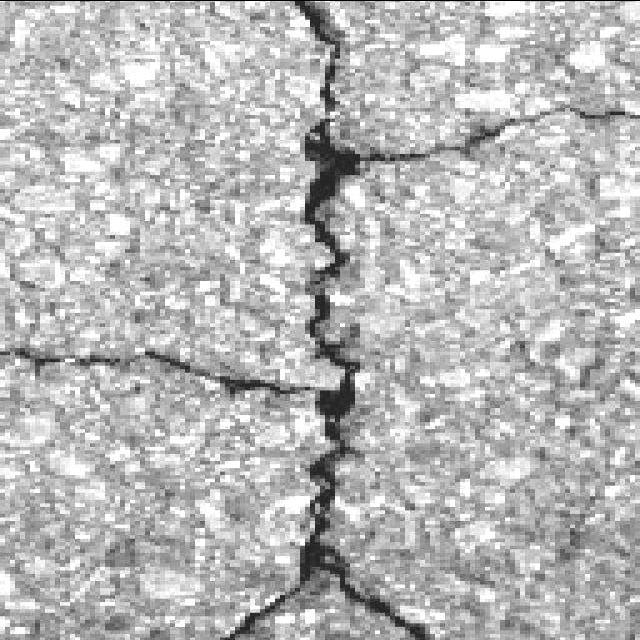SurfaceCrack: (2, 1, 502, 640)
